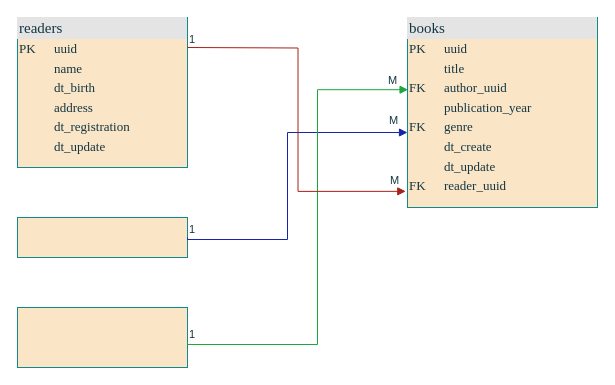
This 615x385 diagram has some shape labels left out. Each missing label, with the centre of its shape:
authors PK uuid name: point (102, 337)
genres PK genre: point (102, 237)
